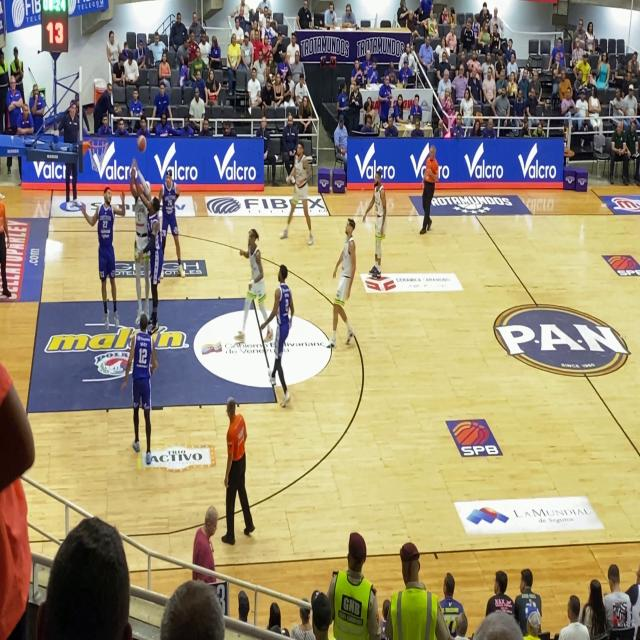Ball: (134, 132, 152, 155)
referee: (220, 394, 266, 547), (416, 138, 442, 241)
team1: (332, 215, 363, 357), (239, 218, 271, 353), (364, 157, 392, 303), (283, 135, 316, 257)
team2: (86, 178, 126, 334), (125, 310, 160, 466), (262, 256, 294, 408), (139, 188, 167, 320), (156, 168, 182, 250)
ubasket: (86, 136, 109, 171)
